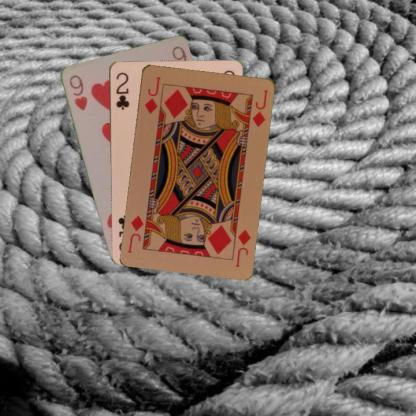2c: (113, 69, 130, 111)
9h: (66, 72, 88, 112)
Jd: (232, 227, 252, 268), (142, 74, 161, 115)
